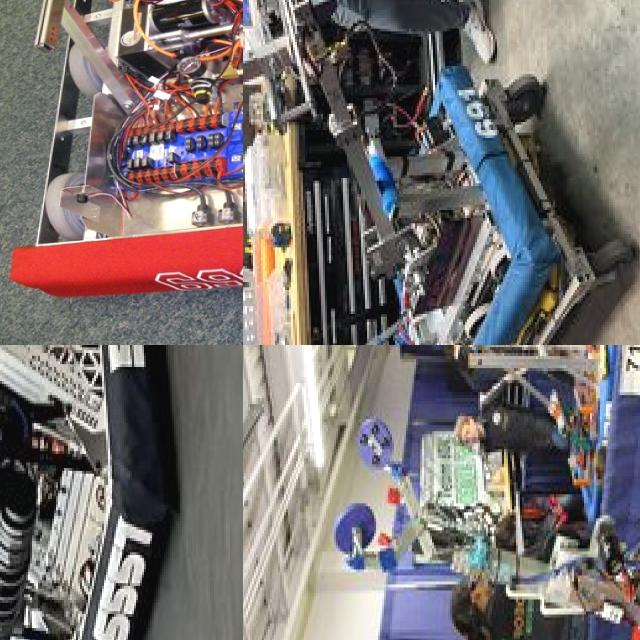FRC-Robots: (243, 0, 640, 345), (323, 364, 640, 640), (0, 0, 243, 316), (0, 345, 238, 640)
